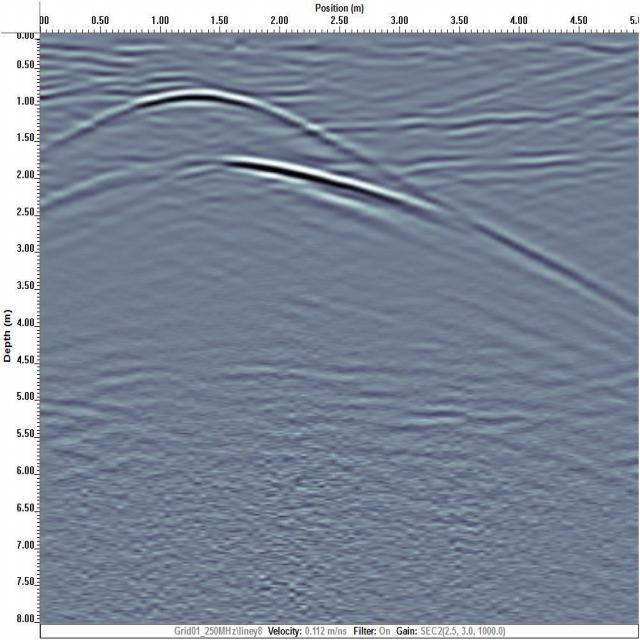hyperbola: (51, 148, 410, 234), (53, 72, 347, 146)
